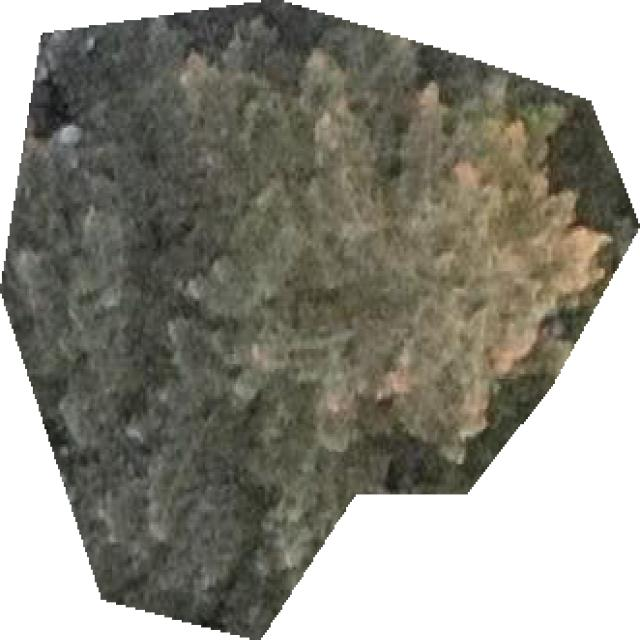spruce: (0, 0, 638, 637)
